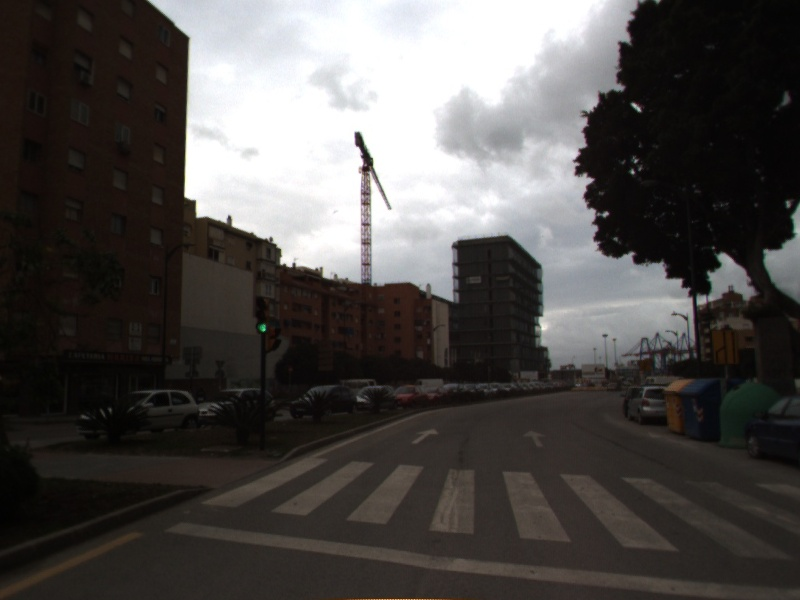STRAIGHT: (410, 426, 441, 445), (521, 428, 549, 448)
